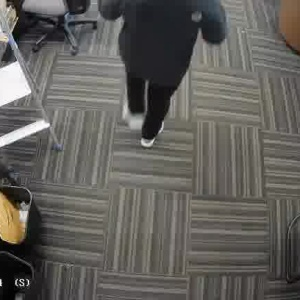person: (116, 0, 212, 137)
